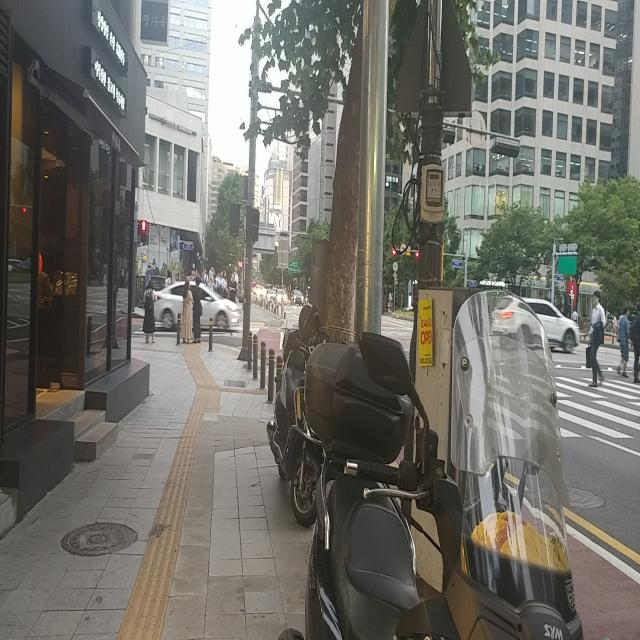횡단보도: (552, 371, 640, 449), (131, 320, 261, 339)
